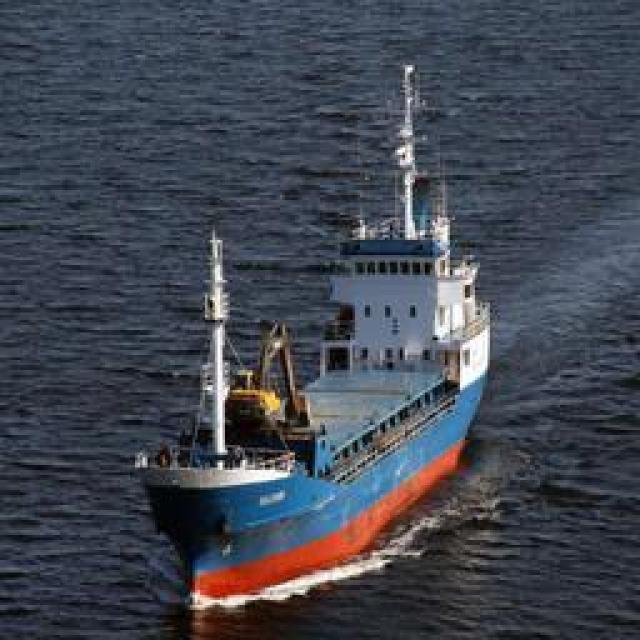CIV_Ship: (135, 112, 490, 608)
